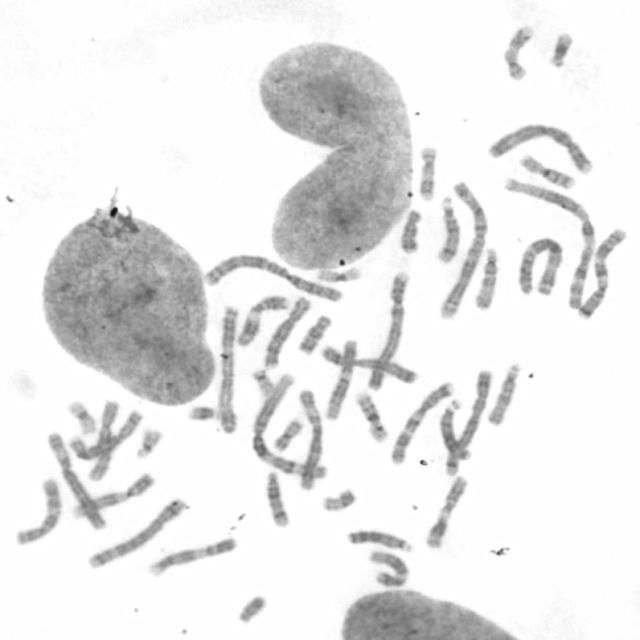A1: (502, 177, 596, 313), (248, 373, 332, 480)
A2: (437, 179, 489, 323), (203, 254, 344, 304)
A3: (514, 236, 565, 298), (217, 305, 240, 435)
B4: (488, 121, 594, 176), (365, 270, 412, 393)
B5: (86, 496, 188, 570), (444, 367, 494, 477)
C10: (16, 476, 64, 548), (85, 399, 122, 483)
C11: (419, 474, 470, 550), (235, 294, 290, 348)
C12: (322, 338, 358, 422), (368, 549, 412, 590)
C6: (46, 430, 108, 532), (296, 388, 325, 494)
C7: (387, 380, 456, 466), (573, 227, 627, 320)
C8: (67, 411, 146, 461), (261, 295, 313, 369)
C9: (72, 470, 156, 521), (147, 536, 239, 579)
D13: (438, 395, 471, 463), (343, 525, 412, 554)
D14: (434, 193, 462, 265), (265, 470, 291, 530)
D15: (484, 361, 523, 428), (472, 246, 502, 310)
E16: (520, 153, 578, 190), (352, 389, 390, 444)
E17: (500, 24, 537, 82), (416, 144, 440, 202)
E18: (295, 312, 333, 357), (399, 208, 423, 256)
F19: (63, 398, 99, 438), (315, 266, 363, 286)
F20: (272, 417, 303, 451), (322, 486, 358, 513)
G21: (546, 30, 573, 71), (187, 405, 224, 423)
G22: (134, 425, 162, 460), (251, 367, 277, 398)
X: (319, 344, 419, 387)
Y: (234, 592, 267, 626)
